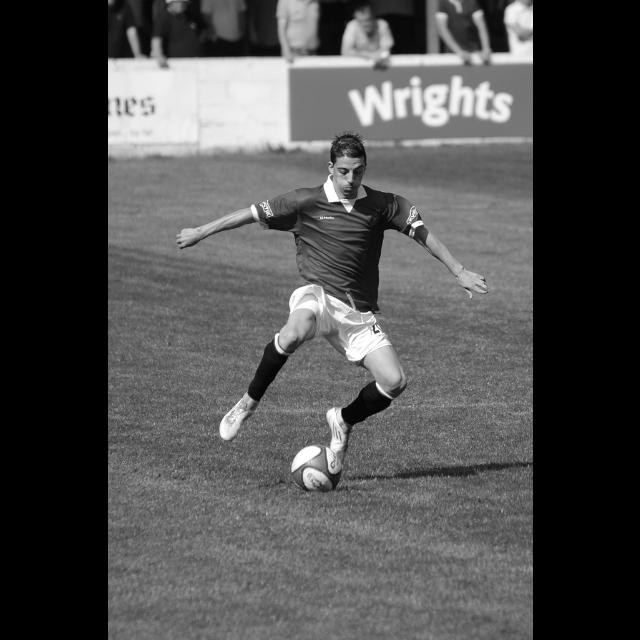Football: (287, 443, 343, 489)
